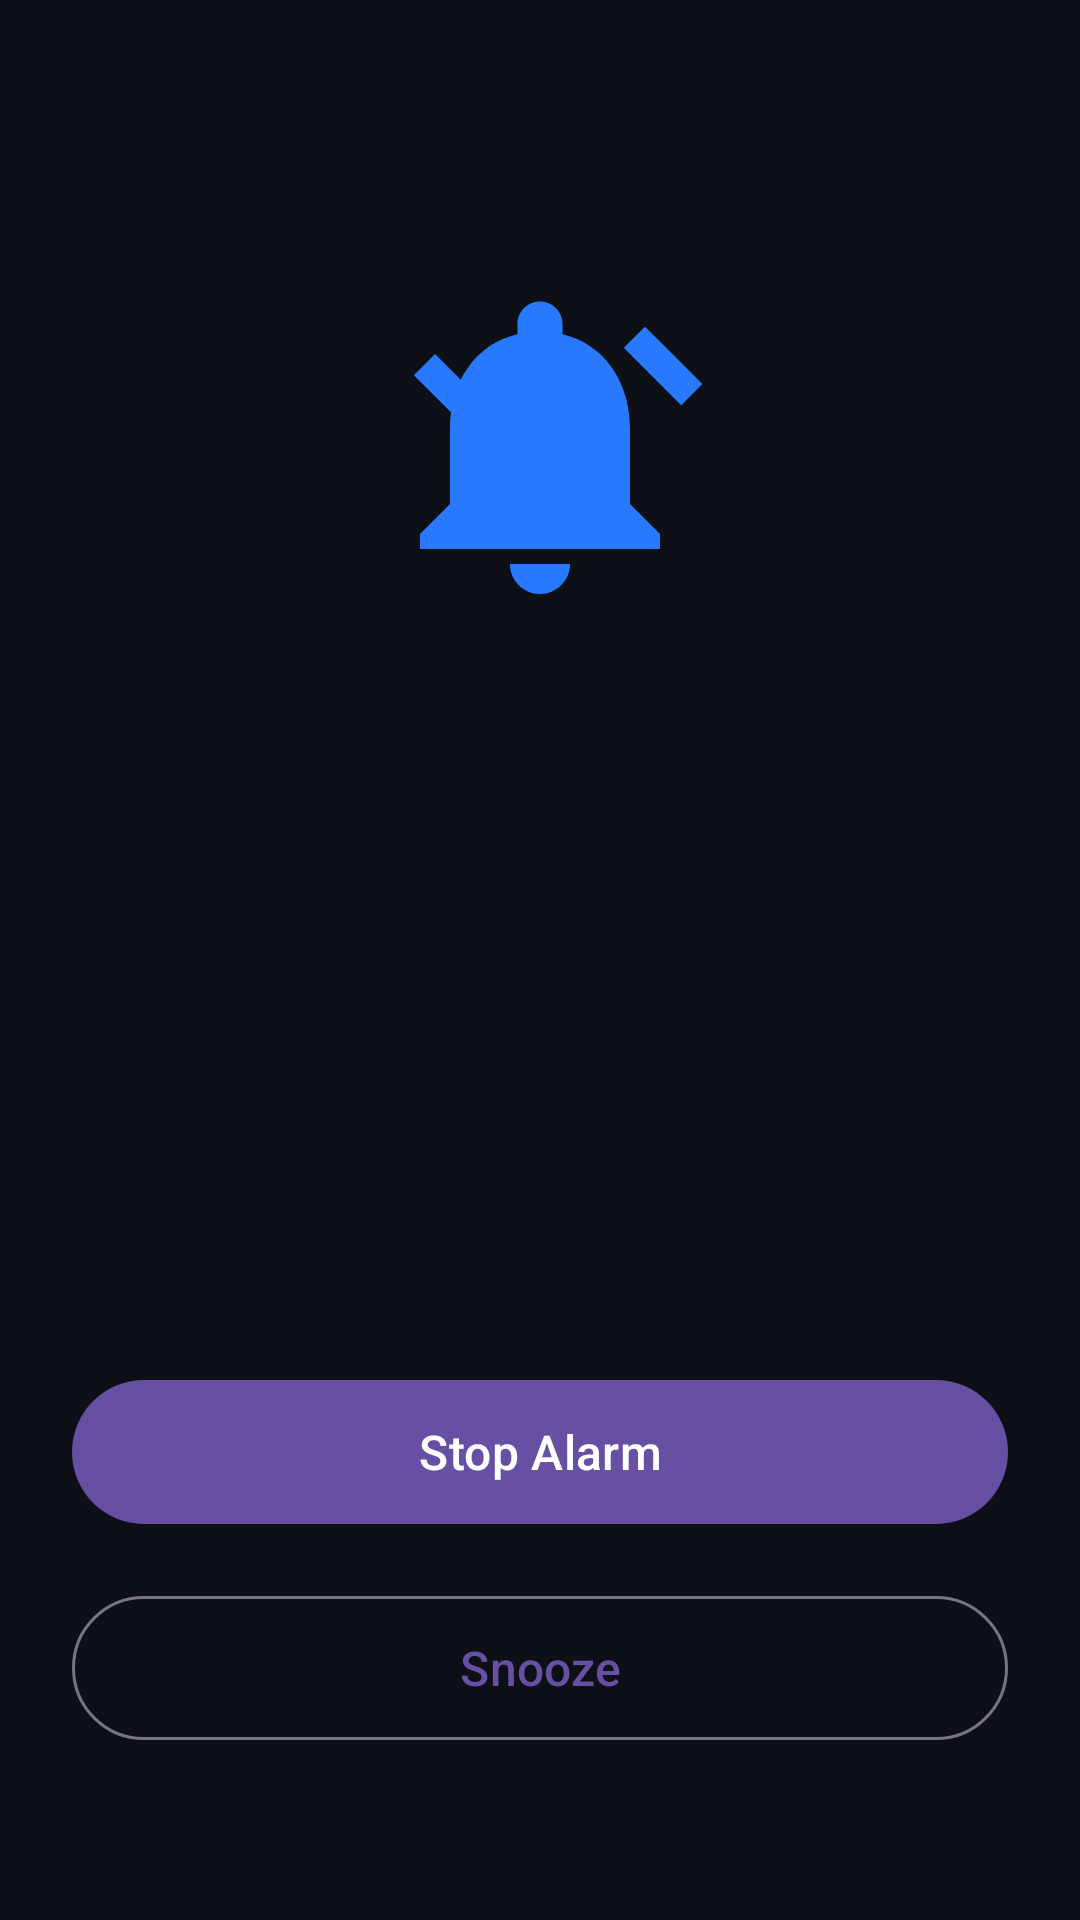

Icon click points for this 1080 x 1920 phone screenshot, format (x,y):
bell ring: (558,447)
